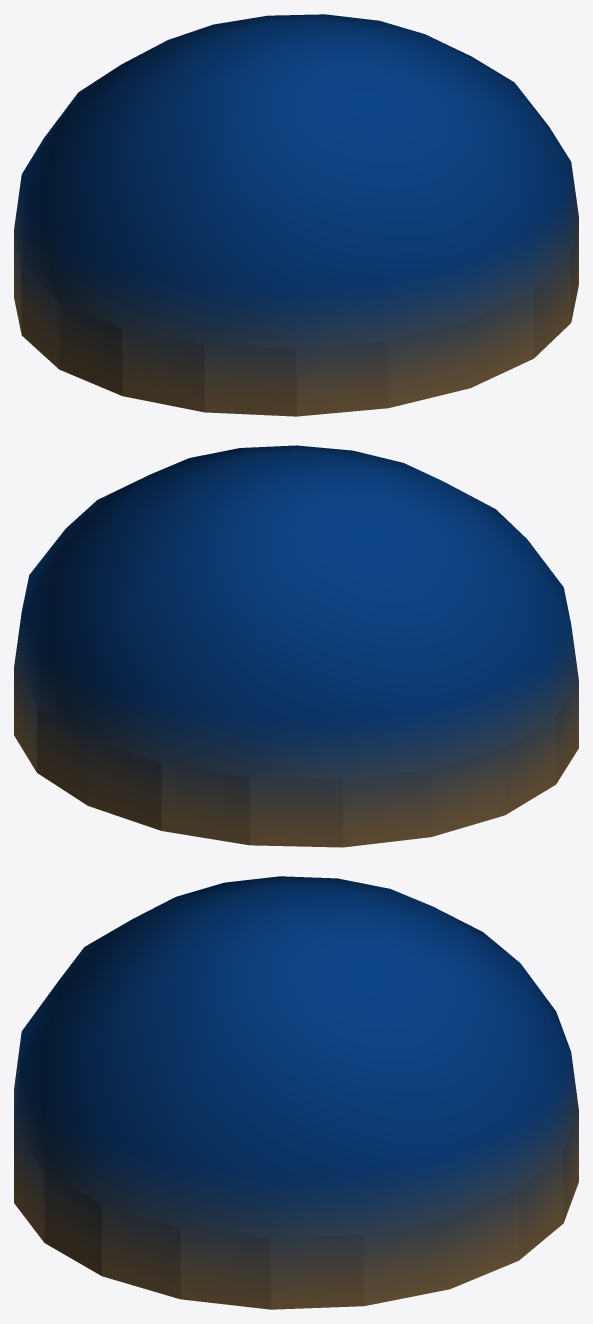
File: SkyDome_b.FBX
3 views of the same model, one above another, from view 1: azimuth 30°, elevation 25°; view 2: azimuth 150°, elevation 25°; view 3: azimuth 270°, elevation 25° (orthographic). The views are drawn at different scales.
Parts seen in each view (by area): view 1: sky; view 2: sky; view 3: sky.
Part boxes in pixels (left/top/right/bottom): sky: left=14, top=14, right=578, bottom=416; sky: left=14, top=445, right=578, bottom=847; sky: left=14, top=876, right=578, bottom=1309.
Bounding box in the file's own units: 32348 × 15619 × 30231.
